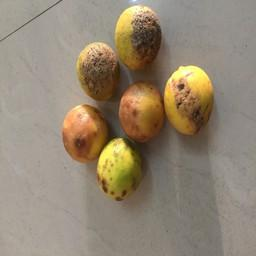Bad_lime: (164, 63, 216, 138), (94, 136, 145, 203), (116, 3, 162, 70), (75, 39, 120, 101), (60, 103, 105, 165), (118, 79, 163, 141)
